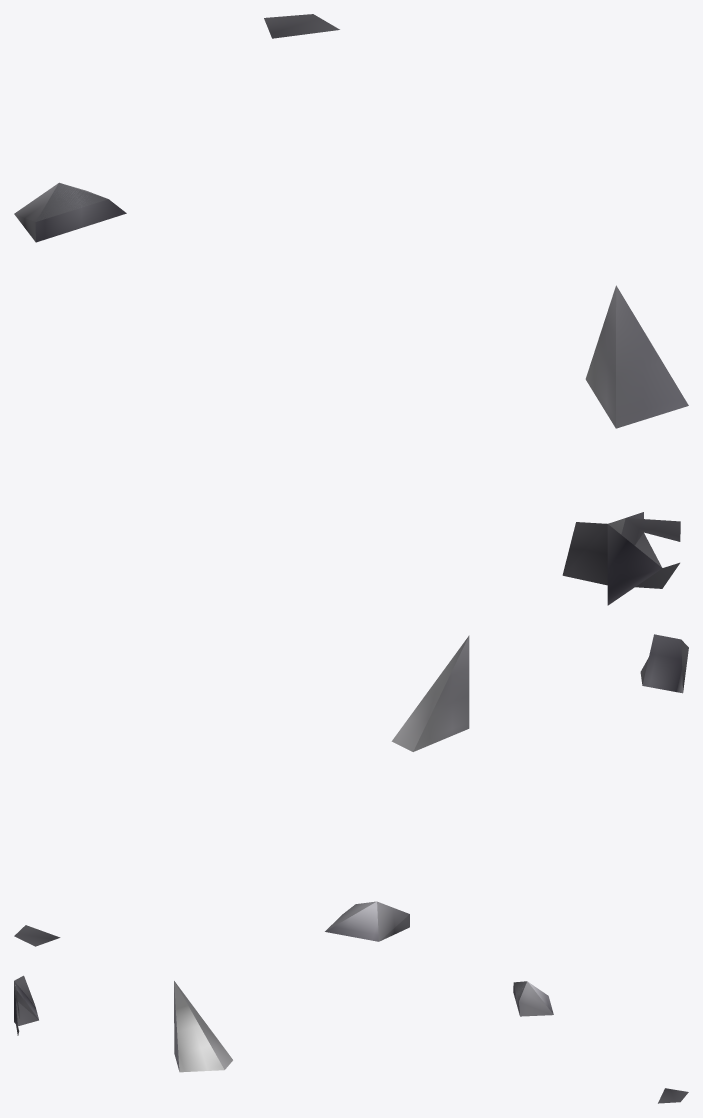
3 views of the same model, one above another, from view 1: azimuth 30°, elevation 25°; view 2: azimuth 150°, elevation 25°; view 3: azimuth 270°, elevation 25° (orthographic). The views are drawn at different scales.
Parts seen in each view (by area): view 1: Mesh_0; view 2: Mesh_0; view 3: Mesh_0.
Part boxes in pixels (box(x1,y1,x2,y2)): Mesh_0: box(14, 14, 688, 605); Mesh_0: box(14, 634, 688, 946); Mesh_0: box(14, 975, 688, 1103).
Bounding box in the file's own units: 226 × 79.18 × 583.
Materials: 1 (1 with a texture image).
